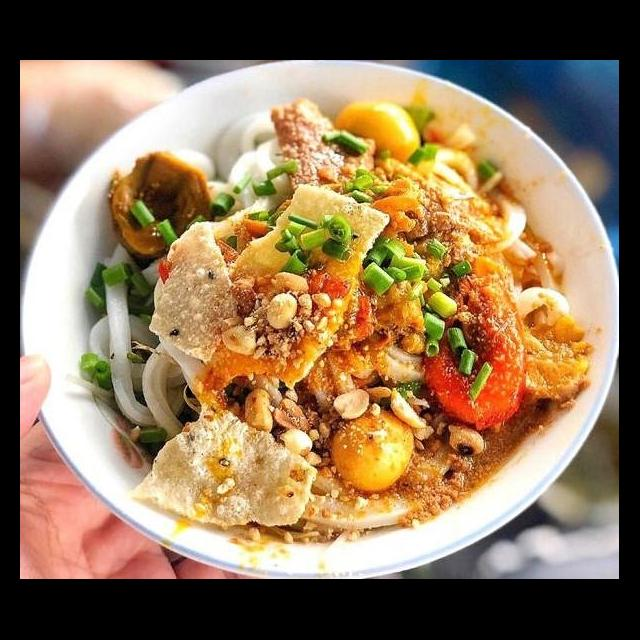banh da: (194, 180, 396, 402), (125, 398, 322, 532), (144, 218, 248, 368)
mi: (84, 238, 216, 446), (160, 106, 298, 232), (296, 436, 458, 536), (484, 190, 576, 332)
thit heo: (268, 92, 382, 216)
tom: (414, 270, 530, 434)
trung: (326, 402, 422, 494), (330, 96, 424, 172)
